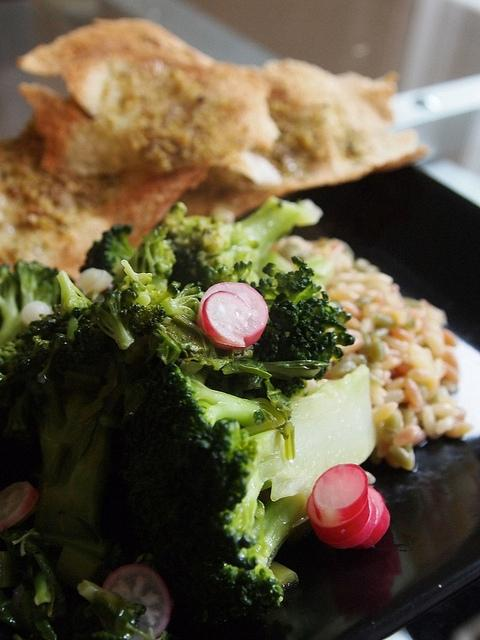broccoli: (93, 333, 379, 614), (0, 290, 167, 537), (158, 193, 324, 305), (252, 292, 355, 400), (237, 255, 322, 312), (80, 223, 134, 285), (14, 260, 61, 311)
radish: (102, 564, 170, 636), (311, 463, 368, 525), (306, 492, 370, 544), (202, 290, 252, 347), (346, 486, 390, 550), (328, 493, 376, 548), (1, 482, 39, 528)
tomato: (102, 565, 171, 636), (0, 480, 38, 532)
